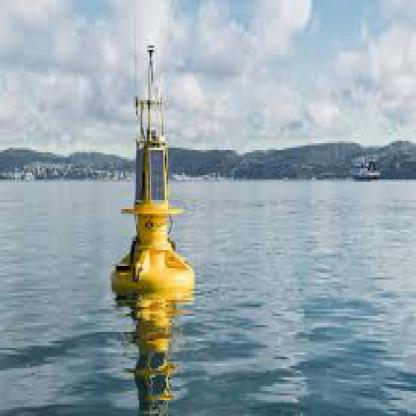buoy: (108, 16, 202, 332)
